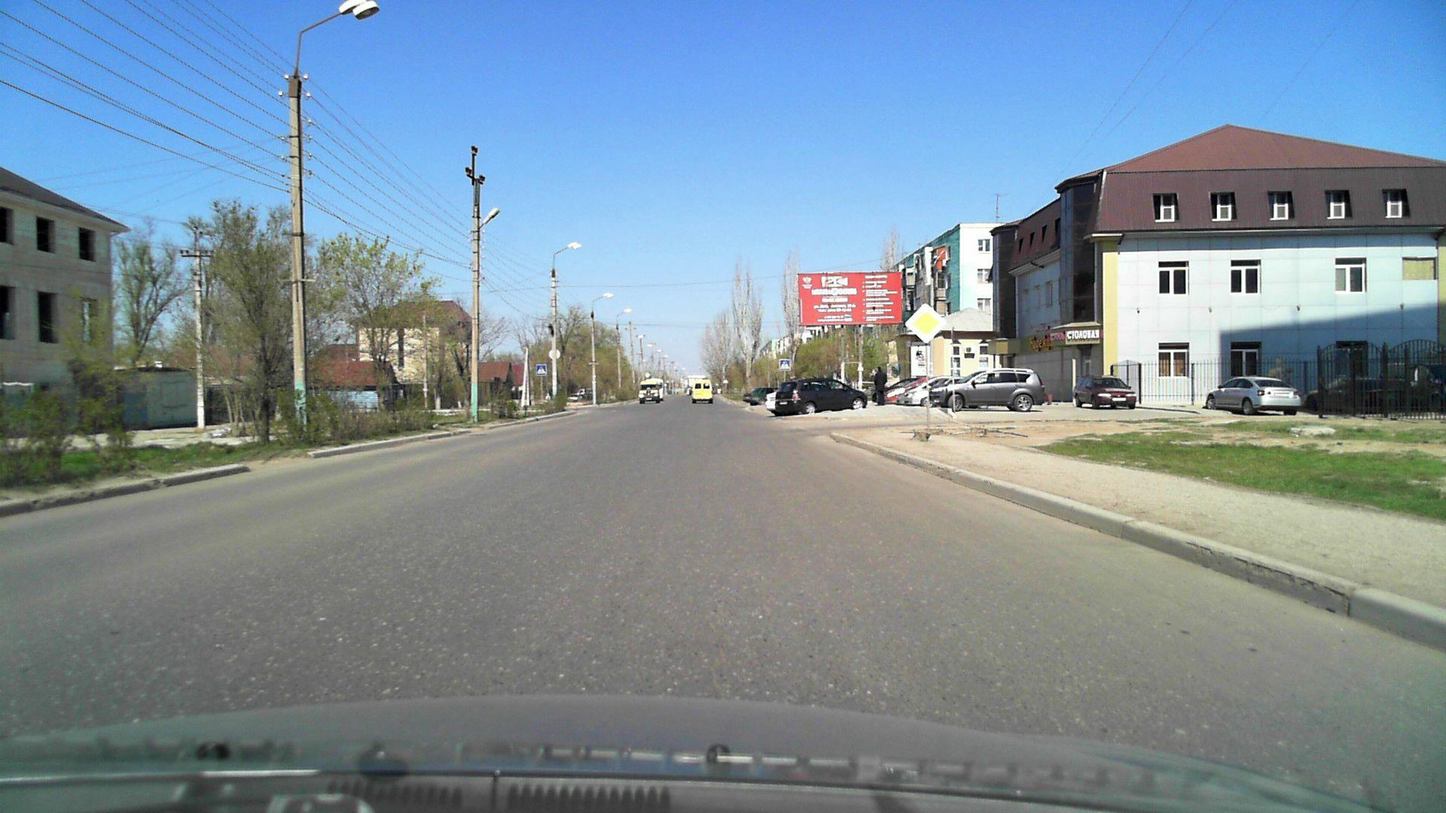road_sign: (904, 303, 948, 346)
